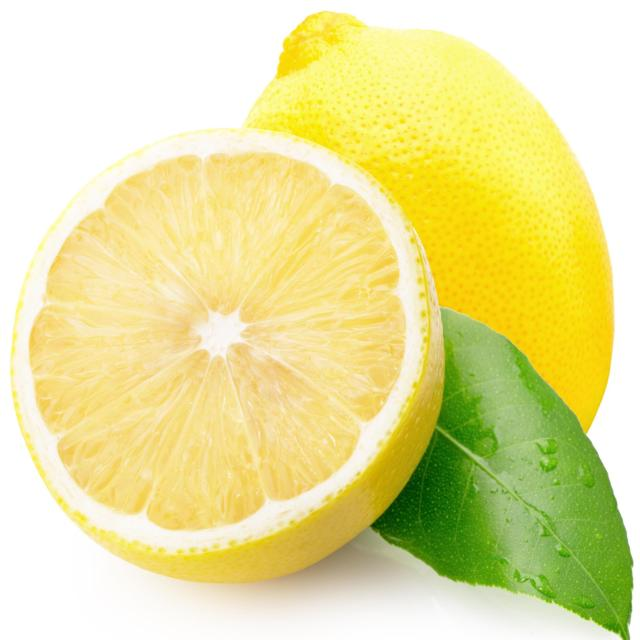lemon: (0, 116, 450, 591)
